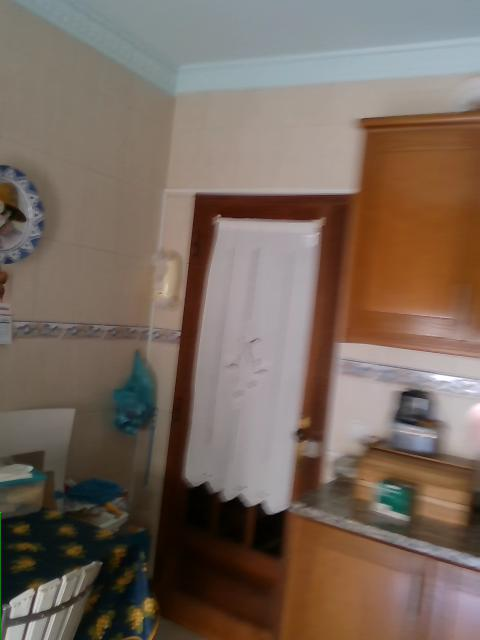door: (148, 192, 356, 637)
